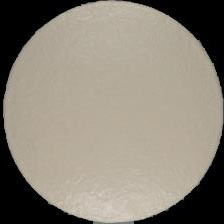55154-3875: (0, 0, 224, 224)
